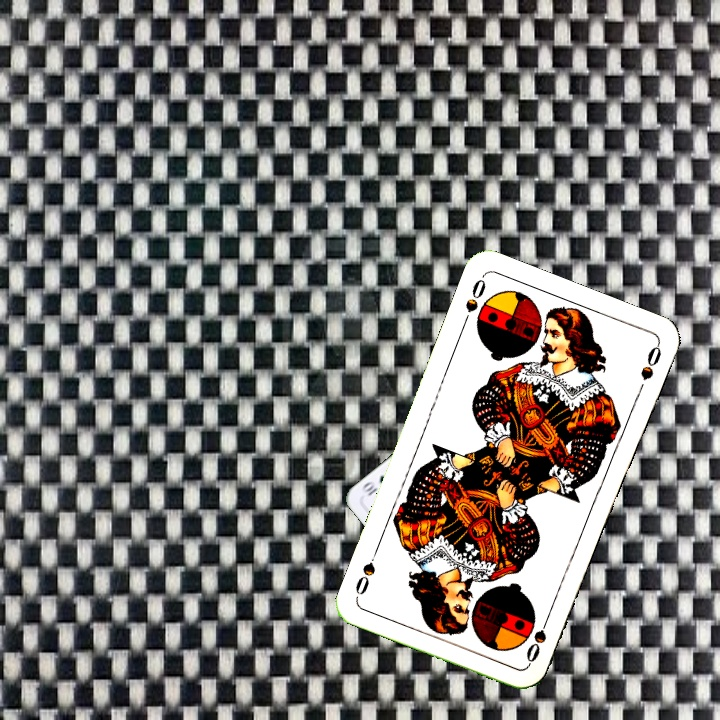SO: (522, 610, 553, 666), (458, 273, 489, 329)
